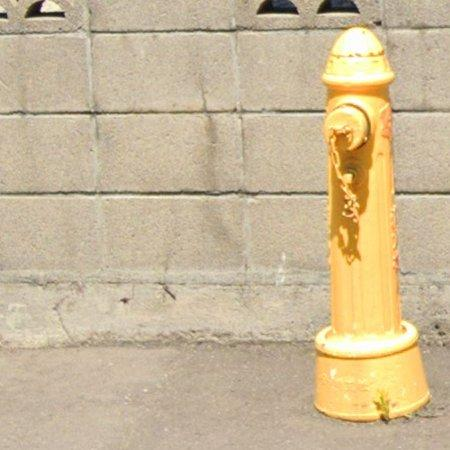a fire hydrant: (315, 27, 432, 423)
